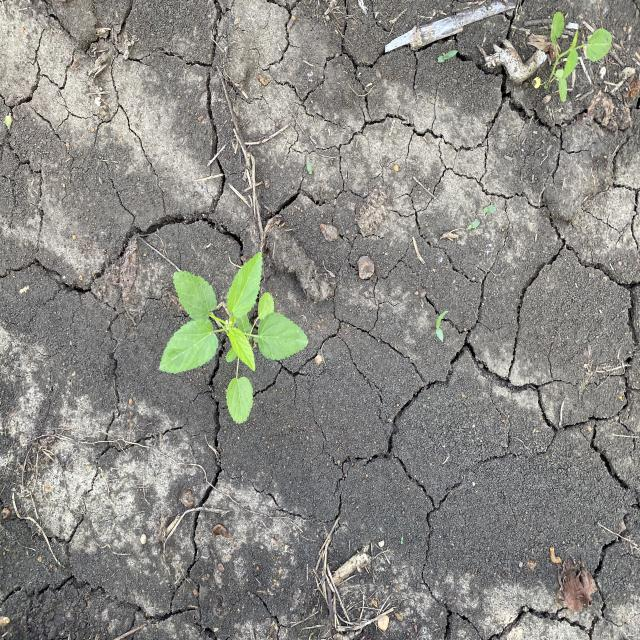PricklySida: (157, 250, 311, 427), (543, 10, 613, 106)
